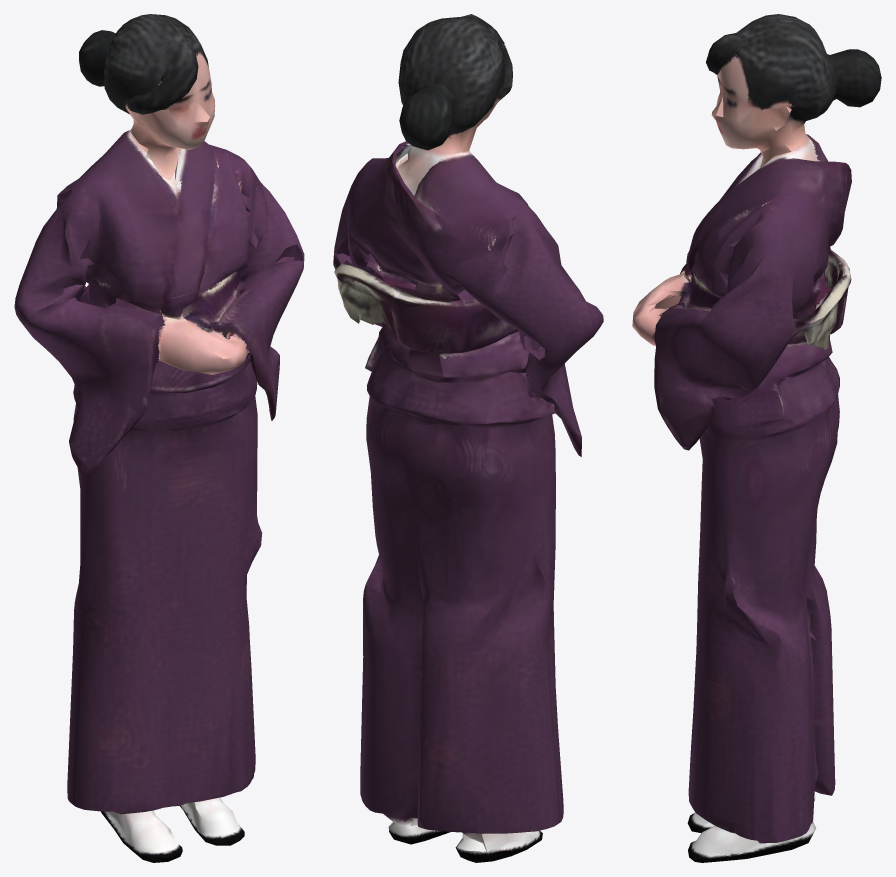
File: npc_okami.glb
3 views of the same model, side by side, from view 1: azimuth 30°, elevation 25°; view 2: azimuth 150°, elevation 25°; view 3: azimuth 270°, elevation 25° (orthographic). The views are drawn at different scales.
Parts seen in each view (by area): view 1: npc_okami; view 2: npc_okami; view 3: npc_okami.
Part boxes in pixels (<box>): npc_okami: <box>14,14,304,862</box>; npc_okami: <box>333,14,603,862</box>; npc_okami: <box>632,14,881,862</box>.
Size of the model in its own units: 0.5282 by 1.58 by 0.4337.
Materials: 1 (1 with a texture image).
